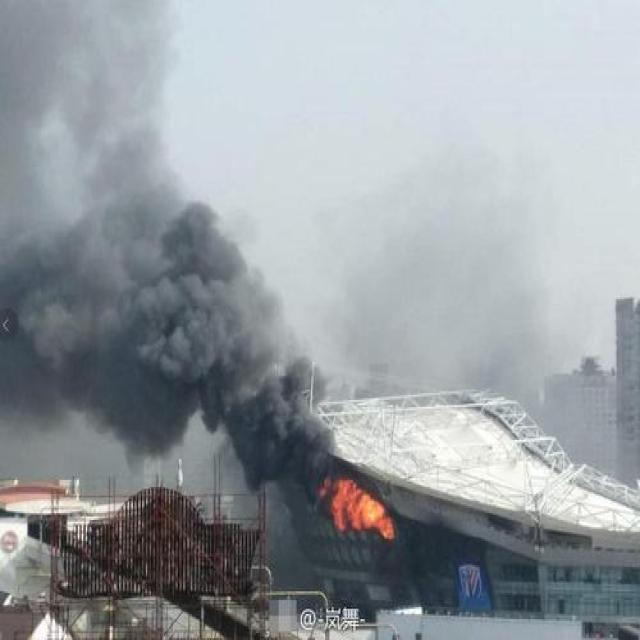Fire: (332, 480, 394, 540)
Smoke: (0, 200, 338, 508)
